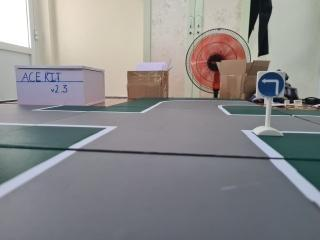left: (252, 68, 289, 102)
